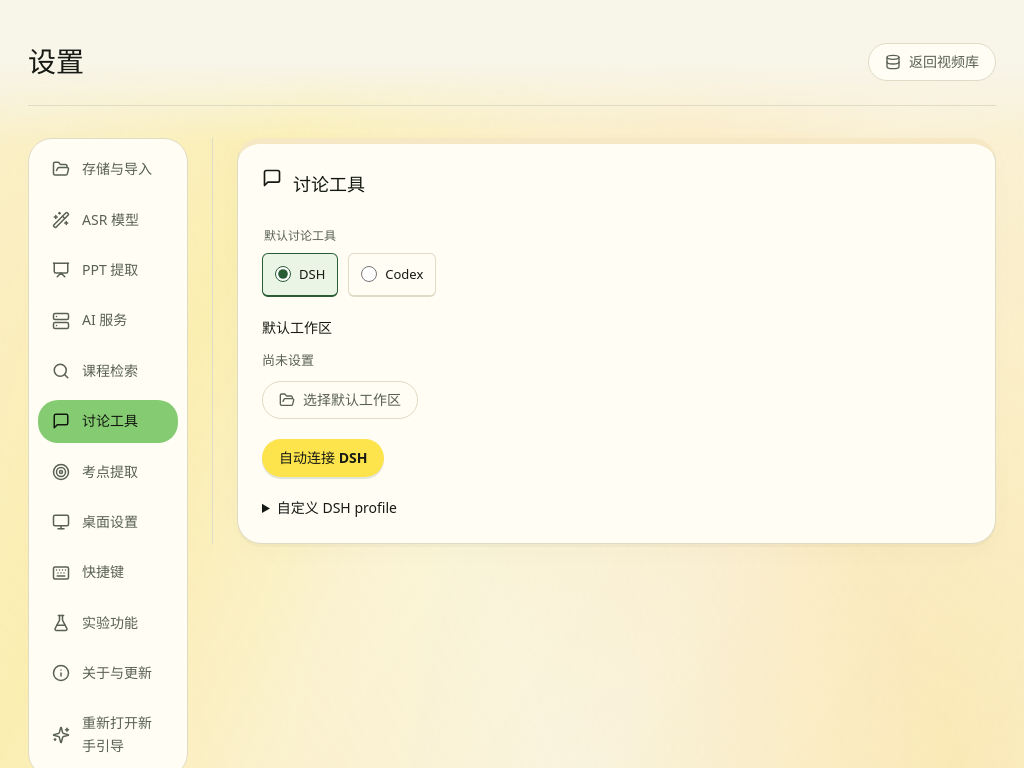
Test: configures the shared root from global settings before any course or question exists
Check: the button "讨论工具" is shown, box top-left (37, 399), bottom-right (179, 444)
Check: the element with class "discussion-settings-section" shows "尚未设置", box top-left (262, 351), bottom-right (314, 369)
What coordinates should you click on to do the following:
click the button "选择默认工作区"
I would click on:
 (340, 400)
Its box is top-left (262, 381), bottom-right (418, 419).
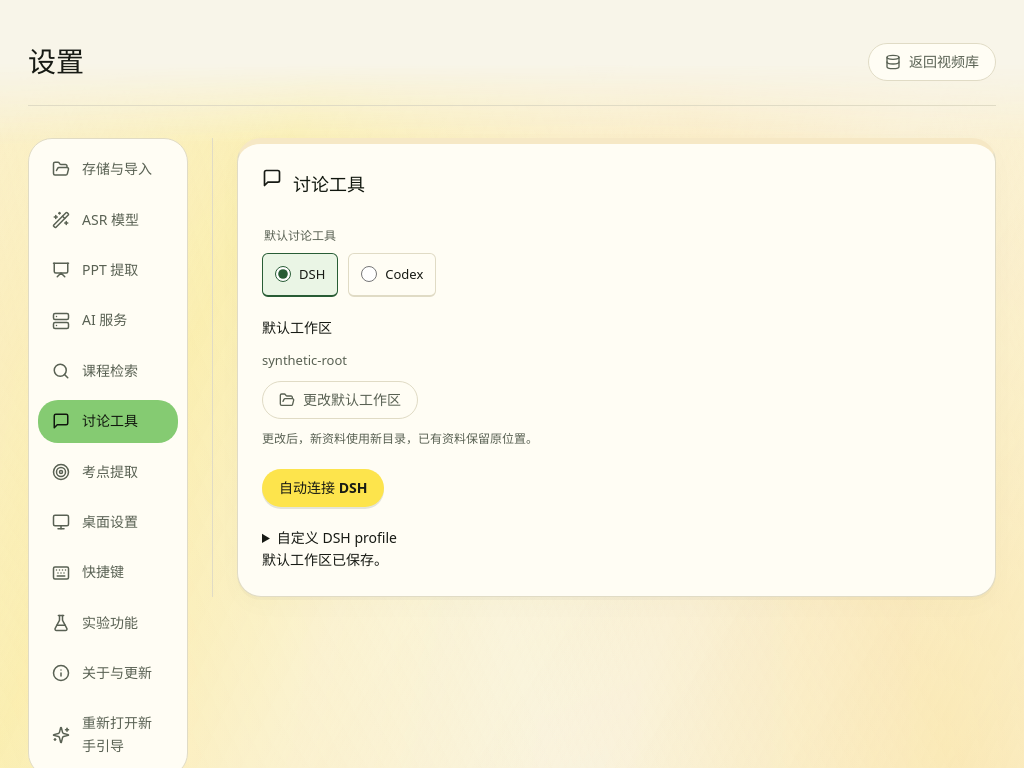
Check: the element with class "discussion-settings-section" shows "synthetic-root", box top-left (262, 351), bottom-right (347, 369)
Check: the element with class "discussion-settings-section" shows "默认工作区已保存", box top-left (262, 550), bottom-right (388, 569)
